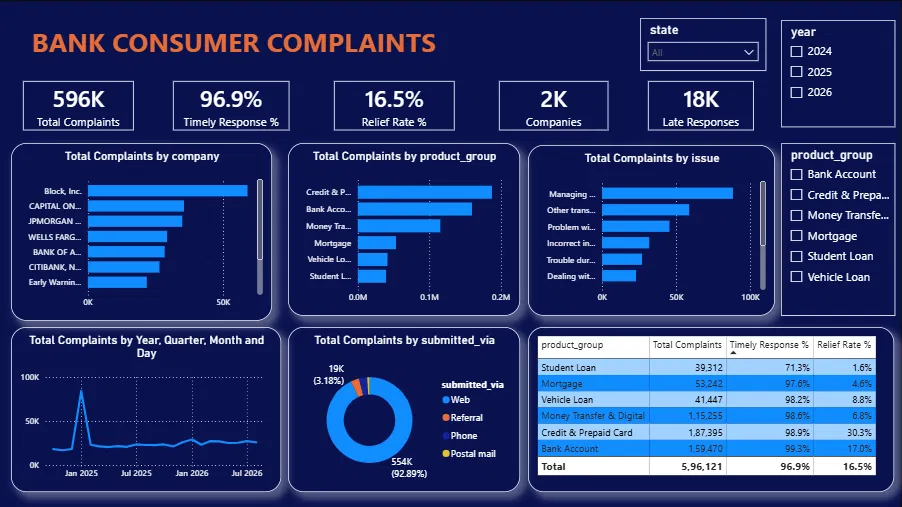

What the dashboard file says about the page in this screenshot:
{"tool":"powerbi","page":{"name":"Bank consumer complaints ","canvas":[1280,720],"ordinal":0},"visuals":[{"type":"cardVisual","fields":{"Data":["complaints_clean.Total Complaints"]},"box":[18.4,97.8,191.3,104.9],"z":0},{"type":"cardVisual","fields":{"Data":["complaints_clean.Timely Response %"]},"box":[231,97.8,199.8,104.9],"z":1000},{"type":"cardVisual","fields":{"Data":["complaints_clean.Relief Rate %"]},"box":[459.2,97.8,205.5,104.9],"z":2000},{"type":"cardVisual","fields":{"Data":["complaints_clean.Companies"]},"box":[693.1,97.8,189.9,104.9],"z":3000},{"type":"cardVisual","fields":{"Data":["complaints_clean.Late Responses"]},"box":[904.3,97.8,184.3,104.9],"z":4000},{"type":"clusteredBarChart","fields":{"Y":["complaints_clean.Total Complaints"],"Category":["complaints_clean.product_group"]},"box":[411,202.7,328.8,245.2],"z":5000},{"type":"clusteredBarChart","fields":{"Category":["complaints_clean.company"],"Y":["complaints_clean.Total Complaints"]},"box":[18.4,202.7,369.9,252.3],"z":6000},{"type":"clusteredBarChart","fields":{"Y":["complaints_clean.Total Complaints"],"Category":["complaints_clean.issue"]},"box":[751.2,205.5,350.1,242.4],"z":7000},{"type":"lineChart","title":"Total Complaints per Month ","fields":{"Category":["complaints_clean.year_month.Variation.Date Hierarchy.Year","complaints_clean.year_month.Variation.Date Hierarchy.Quarter","complaints_clean.year_month.Variation.Date Hierarchy.Month","complaints_clean.year_month.Variation.Date Hierarchy.Day"],"Y":["complaints_clean.Total Complaints"]},"box":[18.4,463.5,382.7,233.9],"z":8000},{"type":"slicer","fields":{"Values":["complaints_clean.year"]},"box":[1109.8,28.3,161.6,151.7],"z":9000},{"type":"slicer","fields":{"Values":["complaints_clean.product_group"]},"box":[1109.8,202.7,161.6,245.2],"z":10000},{"type":"textbox","box":[34,28.3,620.8,69.4],"z":11000},{"type":"tableEx","fields":{"Values":["complaints_clean.product_group","complaints_clean.Total Complaints","complaints_clean.Timely Response %","complaints_clean.Relief Rate %"]},"box":[739.8,455,531.5,242.4],"z":12000},{"type":"slicer","fields":{"Values":["complaints_clean.state"]},"box":[909.9,25.5,178.6,75.1],"z":13000},{"type":"donutChart","fields":{"Category":["complaints_clean.submitted_via"],"Y":["complaints_clean.Total Complaints"]},"box":[411,463.5,318.9,233.9],"z":14000}]}

Visuals, with their boxes in screenshot pixels (x1, y1, x2, y2), scaled from the page's 1280x720 canvas onto the 902x507 screenshot:
cardVisual - complaints_clean.Total Complaints: bbox(13, 69, 148, 143)
cardVisual - complaints_clean.Timely Response %: bbox(163, 69, 304, 143)
cardVisual - complaints_clean.Relief Rate %: bbox(324, 69, 468, 143)
cardVisual - complaints_clean.Companies: bbox(488, 69, 622, 143)
cardVisual - complaints_clean.Late Responses: bbox(637, 69, 767, 143)
clusteredBarChart - complaints_clean.Total Complaints x complaints_clean.product_group: bbox(290, 143, 521, 315)
clusteredBarChart - complaints_clean.company x complaints_clean.Total Complaints: bbox(13, 143, 274, 320)
clusteredBarChart - complaints_clean.Total Complaints x complaints_clean.issue: bbox(529, 145, 776, 315)
"Total Complaints per Month " lineChart: bbox(13, 326, 283, 491)
slicer - complaints_clean.year: bbox(782, 20, 896, 127)
slicer - complaints_clean.product_group: bbox(782, 143, 896, 315)
textbox: bbox(24, 20, 461, 69)
tableEx - complaints_clean.product_group x complaints_clean.Total Complaints: bbox(521, 320, 896, 491)
slicer - complaints_clean.state: bbox(641, 18, 767, 71)
donutChart - complaints_clean.submitted_via x complaints_clean.Total Complaints: bbox(290, 326, 514, 491)
